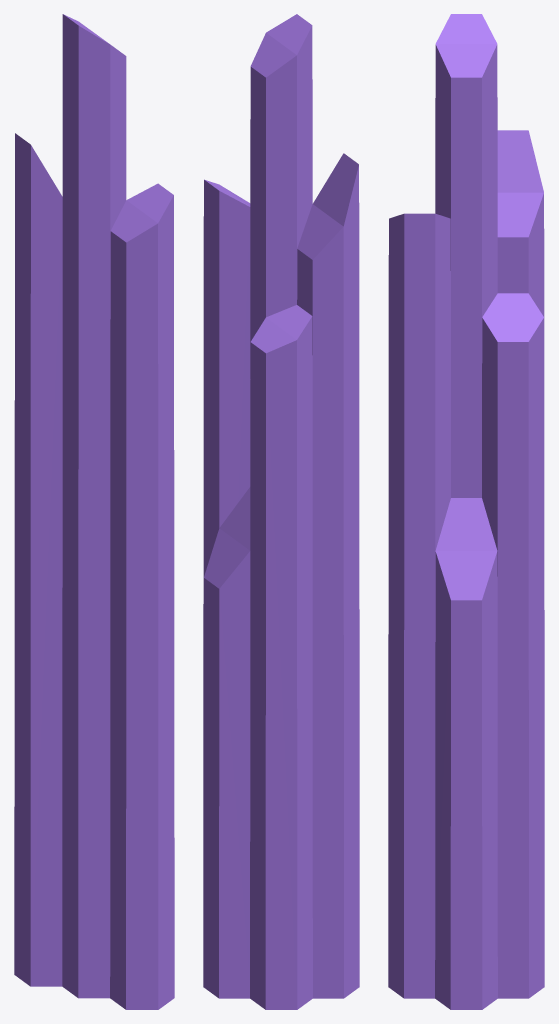
File: resources_3.fbx
3 renders of one model, left to right at view 1: azimuth 30°, elevation 25°; view 2: azimuth 210°, elevation 25°; view 3: azimuth 270°, elevation 25°, orthographic. The views are drawn at different scales.
Visible parts, largest first — view 1: resources_3; view 2: resources_3; view 3: resources_3.
Boxes of the visible parts, x1,y1,x2,y2 form: resources_3: (14,14,174,1009); resources_3: (203,14,359,1009); resources_3: (388,14,544,1009).
Size of the model in its own units: 16.71 by 129 by 19.3.
